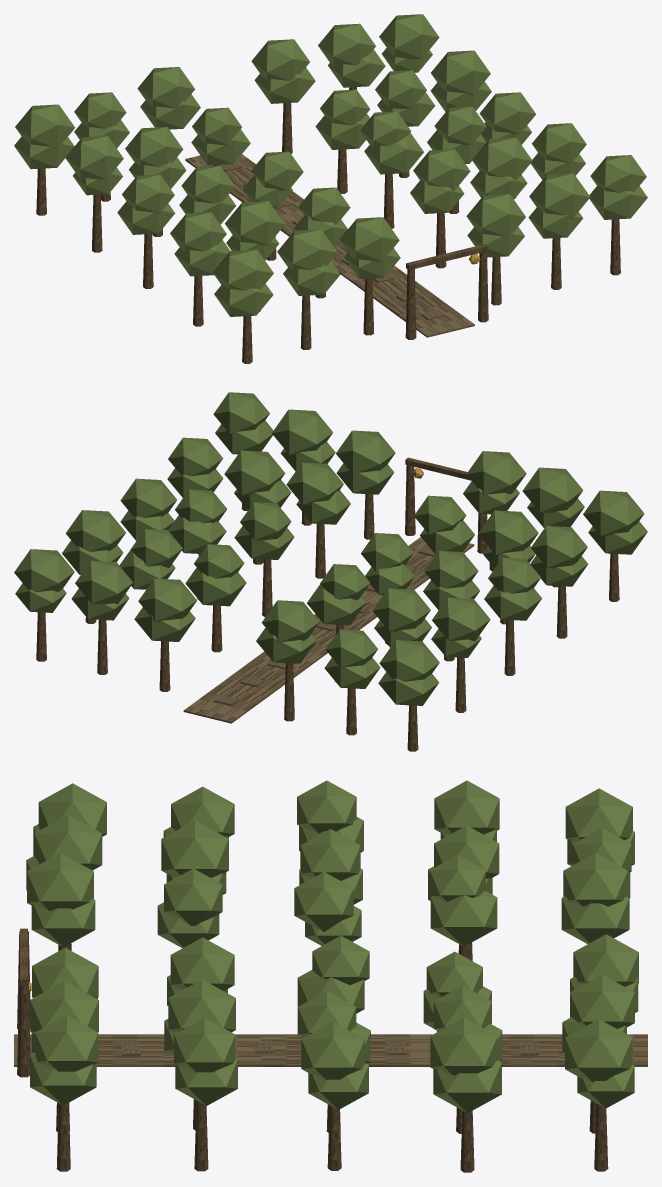
Rendered from village_cultivation_orchard_0033.glb.
3 renders of one model, top to bottom at view 1: azimuth 30°, elevation 25°; view 2: azimuth 150°, elevation 25°; view 3: azimuth 270°, elevation 25°, orthographic. The views are drawn at different scales.
Parts seen in each view (by area): view 1: cult_orchard_0033_1, cult_orchard_0033_0, cult_orchard_0033_3; view 2: cult_orchard_0033_1, cult_orchard_0033_0, cult_orchard_0033_3; view 3: cult_orchard_0033_1, cult_orchard_0033_3, cult_orchard_0033_0.
Boxes of the visible parts, <box> form: cult_orchard_0033_1: <box>14,14,647,316</box>; cult_orchard_0033_0: <box>36,87,620,363</box>; cult_orchard_0033_3: <box>185,154,474,337</box>; cult_orchard_0033_1: <box>14,392,647,705</box>; cult_orchard_0033_0: <box>36,457,619,751</box>; cult_orchard_0033_3: <box>183,537,474,723</box>; cult_orchard_0033_1: <box>26,780,638,1113</box>; cult_orchard_0033_3: <box>14,1034,647,1066</box>; cult_orchard_0033_0: <box>17,928,608,1172</box>.
Bounding box in the file's own units: 14.46 × 3.79 × 14.5.
2 materials, 2 textured.
